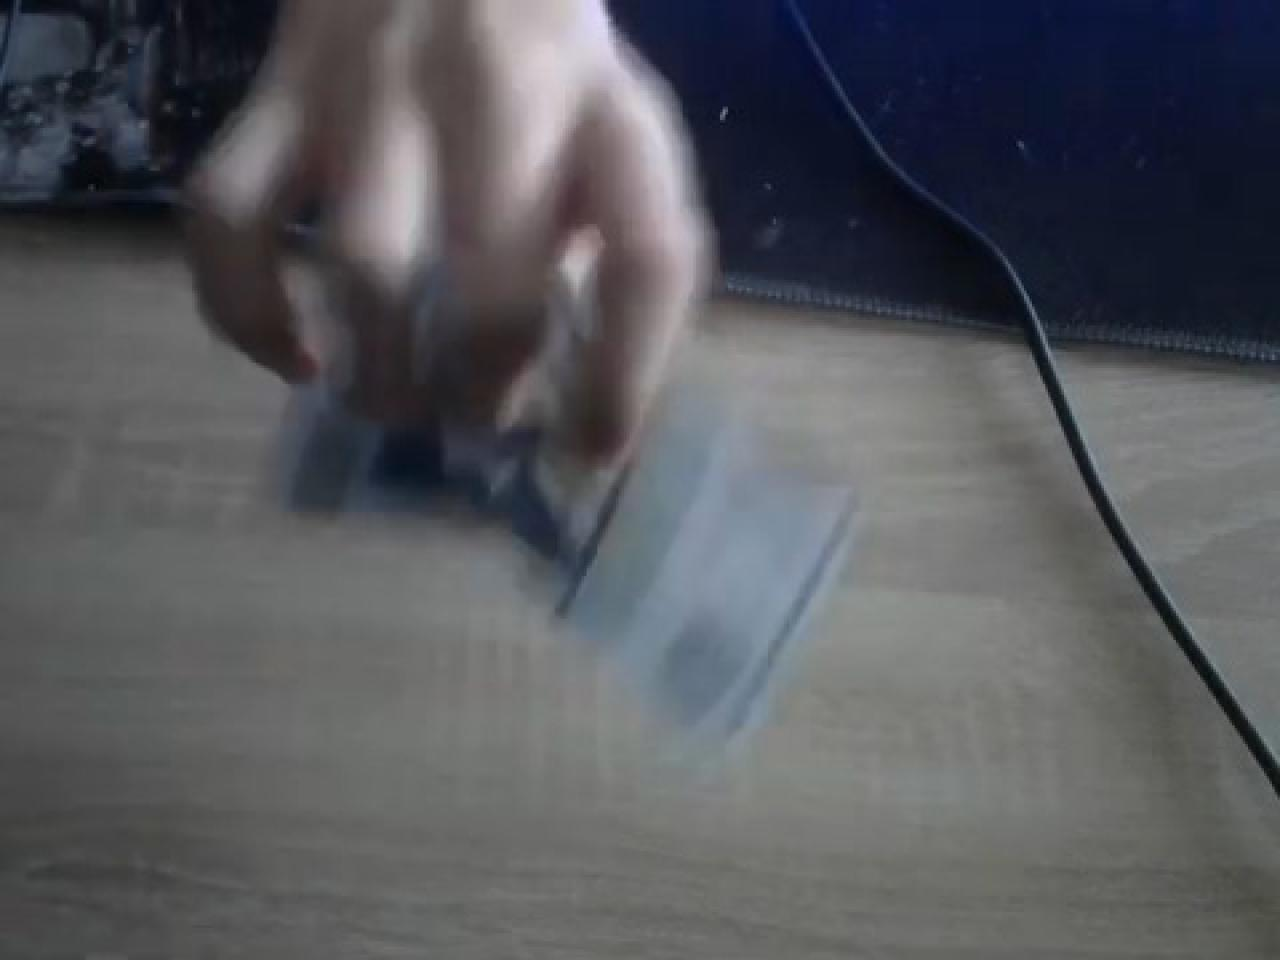20leva: (170, 0, 718, 600)
